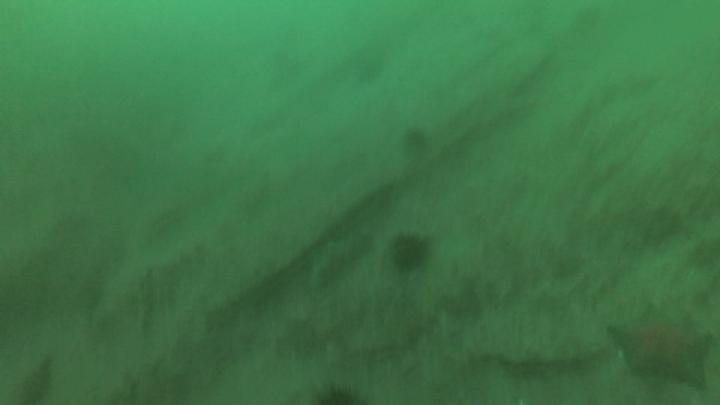echinus: (390, 236, 427, 271), (403, 128, 429, 151)
holothurian: (309, 235, 371, 287)
starfish: (609, 307, 714, 389)
